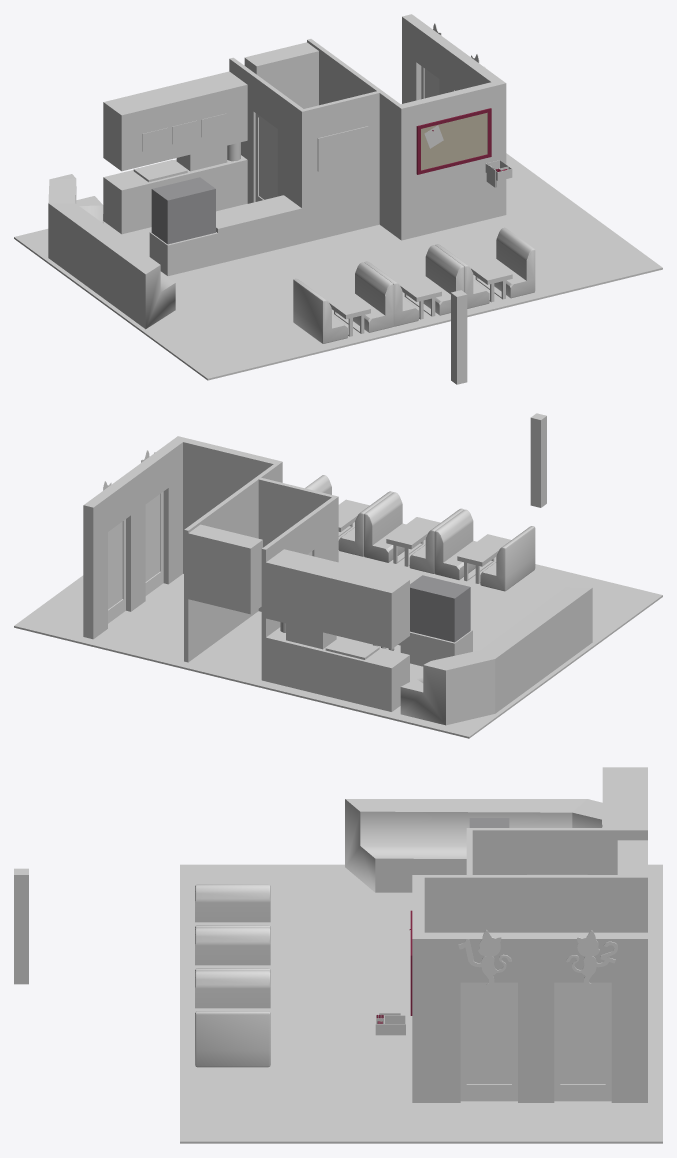
Rendered from main cafe.fbx.
3 renders of one model, top to bottom at view 1: azimuth 30°, elevation 25°; view 2: azimuth 150°, elevation 25°; view 3: azimuth 270°, elevation 25°, orthographic. The views are drawn at different scales.
Parts seen in each view (by area): view 1: floor, wallinfront of toilets, entrance sofa, wall bulge thing, workboxwallfront, wall (×3), behind the counter, separator wall, counter, chair (×2), glass display, bulletin board (+15 smaller); view 2: floor, entrance sofa, wall bulge thing, behind the counter, pillar (×3), cabinet, separator wall, wallinfront of toilets, thing on top of pillars, chair (×2), wall (×3), glass display (+11 smaller); view 3: floor, toilet door (×2), entrance sofa, pillar (×3), separator wall, thing on top of pillars, wall, chair003, wallinfront of toilets, chair, chair002, chair004 (+4 smaller).
Boxes of the visible parts, x1=… form: floor: x1=14, y1=153, x2=662, y2=380; wallinfront of toilets: x1=396, y1=79, x2=506, y2=240; entrance sofa: x1=48, y1=174, x2=175, y2=329; wall bulge thing: x1=103, y1=71, x2=247, y2=171; workboxwallfront: x1=304, y1=91, x2=379, y2=242; wall (×3): x1=229, y1=57, x2=306, y2=243; behind the counter: x1=103, y1=155, x2=247, y2=234; separator wall: x1=307, y1=39, x2=400, y2=236; counter: x1=216, y1=195, x2=301, y2=263; chair (×2): x1=293, y1=262, x2=393, y2=343; glass display: x1=151, y1=177, x2=215, y2=244; bulletin board: x1=416, y1=108, x2=491, y2=174; floor: x1=14, y1=522, x2=662, y2=738; entrance sofa: x1=400, y1=587, x2=592, y2=725; wall bulge thing: x1=266, y1=549, x2=409, y2=648; behind the counter: x1=266, y1=627, x2=409, y2=711; pillar (×3): x1=83, y1=477, x2=182, y2=639; cabinet: x1=188, y1=524, x2=262, y2=614; separator wall: x1=184, y1=464, x2=277, y2=662; wallinfront of toilets: x1=173, y1=436, x2=282, y2=573; thing on top of pillars: x1=83, y1=439, x2=182, y2=542; chair (×2): x1=434, y1=509, x2=535, y2=591; wall (×3): x1=261, y1=495, x2=338, y2=681; glass display: x1=410, y1=575, x2=470, y2=642; floor: x1=180, y1=864, x2=662, y2=1143; toilet door (×2): x1=460, y1=982, x2=611, y2=1101; entrance sofa: x1=345, y1=799, x2=602, y2=892; pillar (×3): x1=424, y1=982, x2=647, y2=1102; separator wall: x1=424, y1=875, x2=647, y2=932; thing on top of pillars: x1=424, y1=932, x2=647, y2=982; wall: x1=466, y1=828, x2=647, y2=874; chair003: x1=195, y1=1011, x2=270, y2=1067; wallinfront of toilets: x1=412, y1=875, x2=424, y2=1102; chair: x1=195, y1=884, x2=270, y2=922; chair002: x1=195, y1=927, x2=270, y2=965; chair004: x1=195, y1=970, x2=270, y2=1008.
Size of the model in its own units: 434 by 430 by 128.
